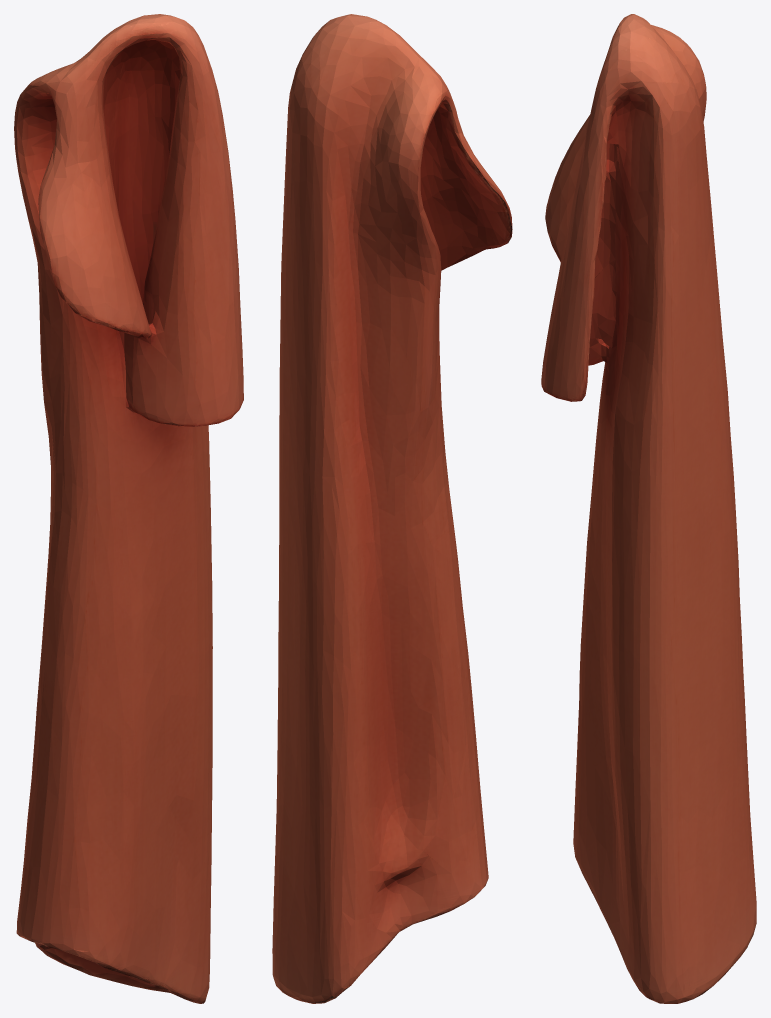
File: scarf1.glb
The picture shows the model from 3 angles, left to right: view 1: azimuth 30°, elevation 25°; view 2: azimuth 150°, elevation 25°; view 3: azimuth 270°, elevation 25°; orthographic projection. The views are drawn at different scales.
Parts seen in each view (by area): view 1: world; view 2: world; view 3: world.
Boxes of the visible parts, left/top/right/bottom form: world: left=14, top=14, right=243, bottom=1003; world: left=272, top=14, right=512, bottom=1003; world: left=541, top=14, right=756, bottom=1003.
Size of the model in its own units: 0.2083 by 0.9995 by 0.2053.
1 material, 1 textured.
